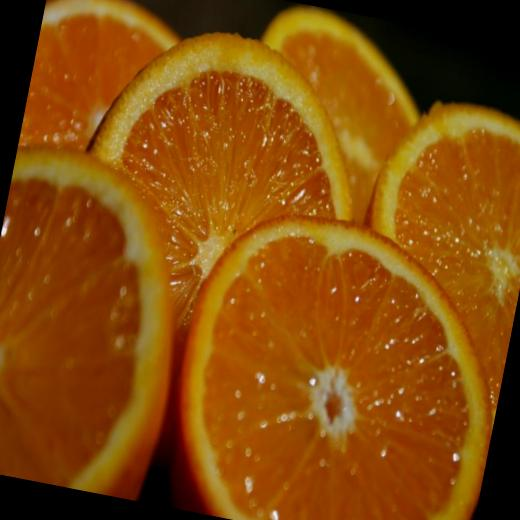Grape: (50, 9, 382, 397)
